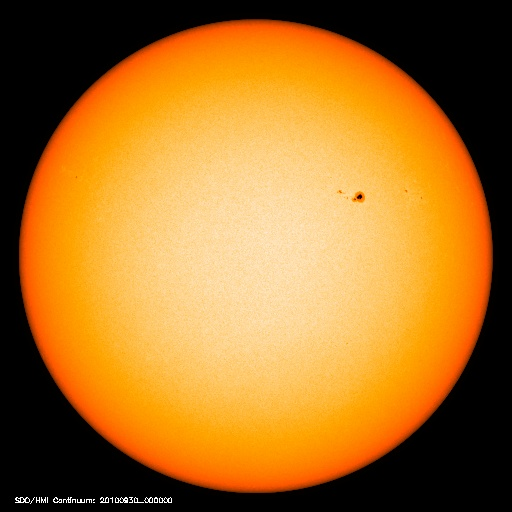sunspot: (325, 181, 373, 210), (394, 181, 432, 206)
